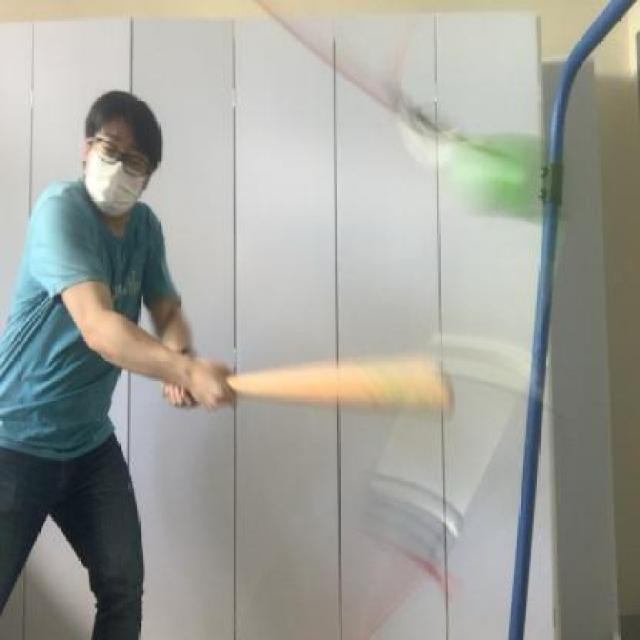baseball: (450, 119, 578, 233)
